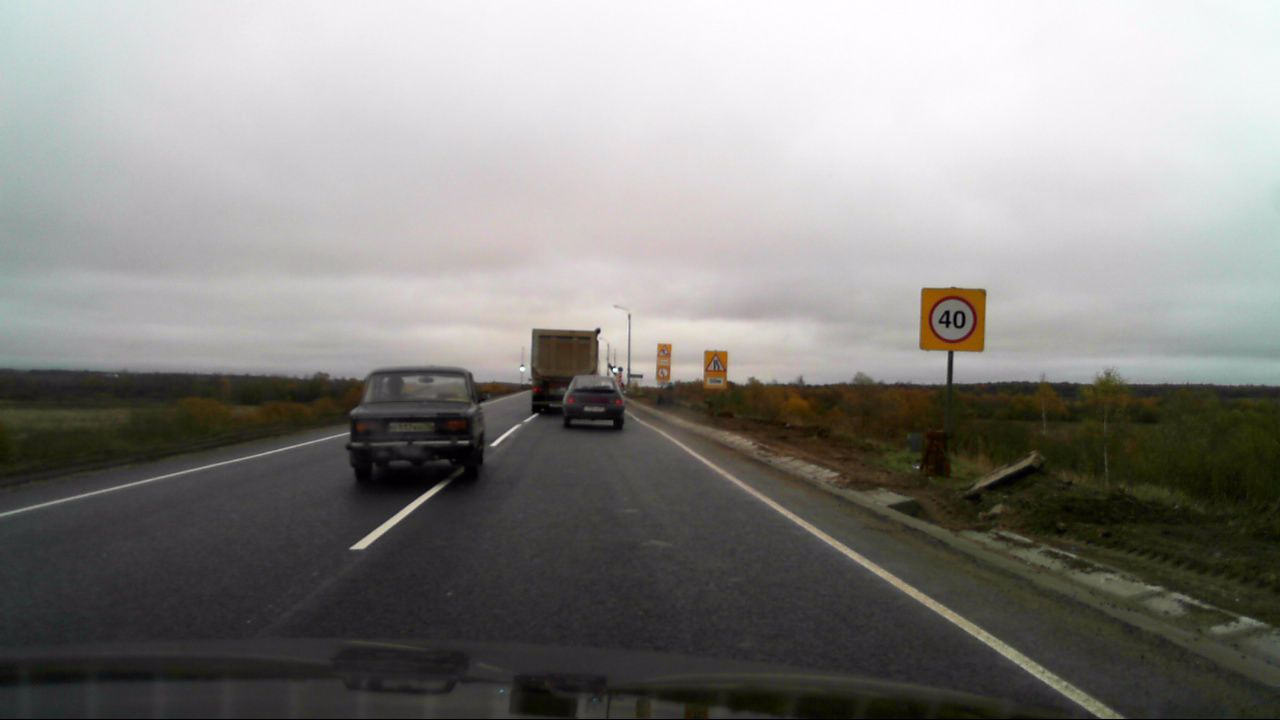speed_warning_40: (921, 289, 985, 353)
